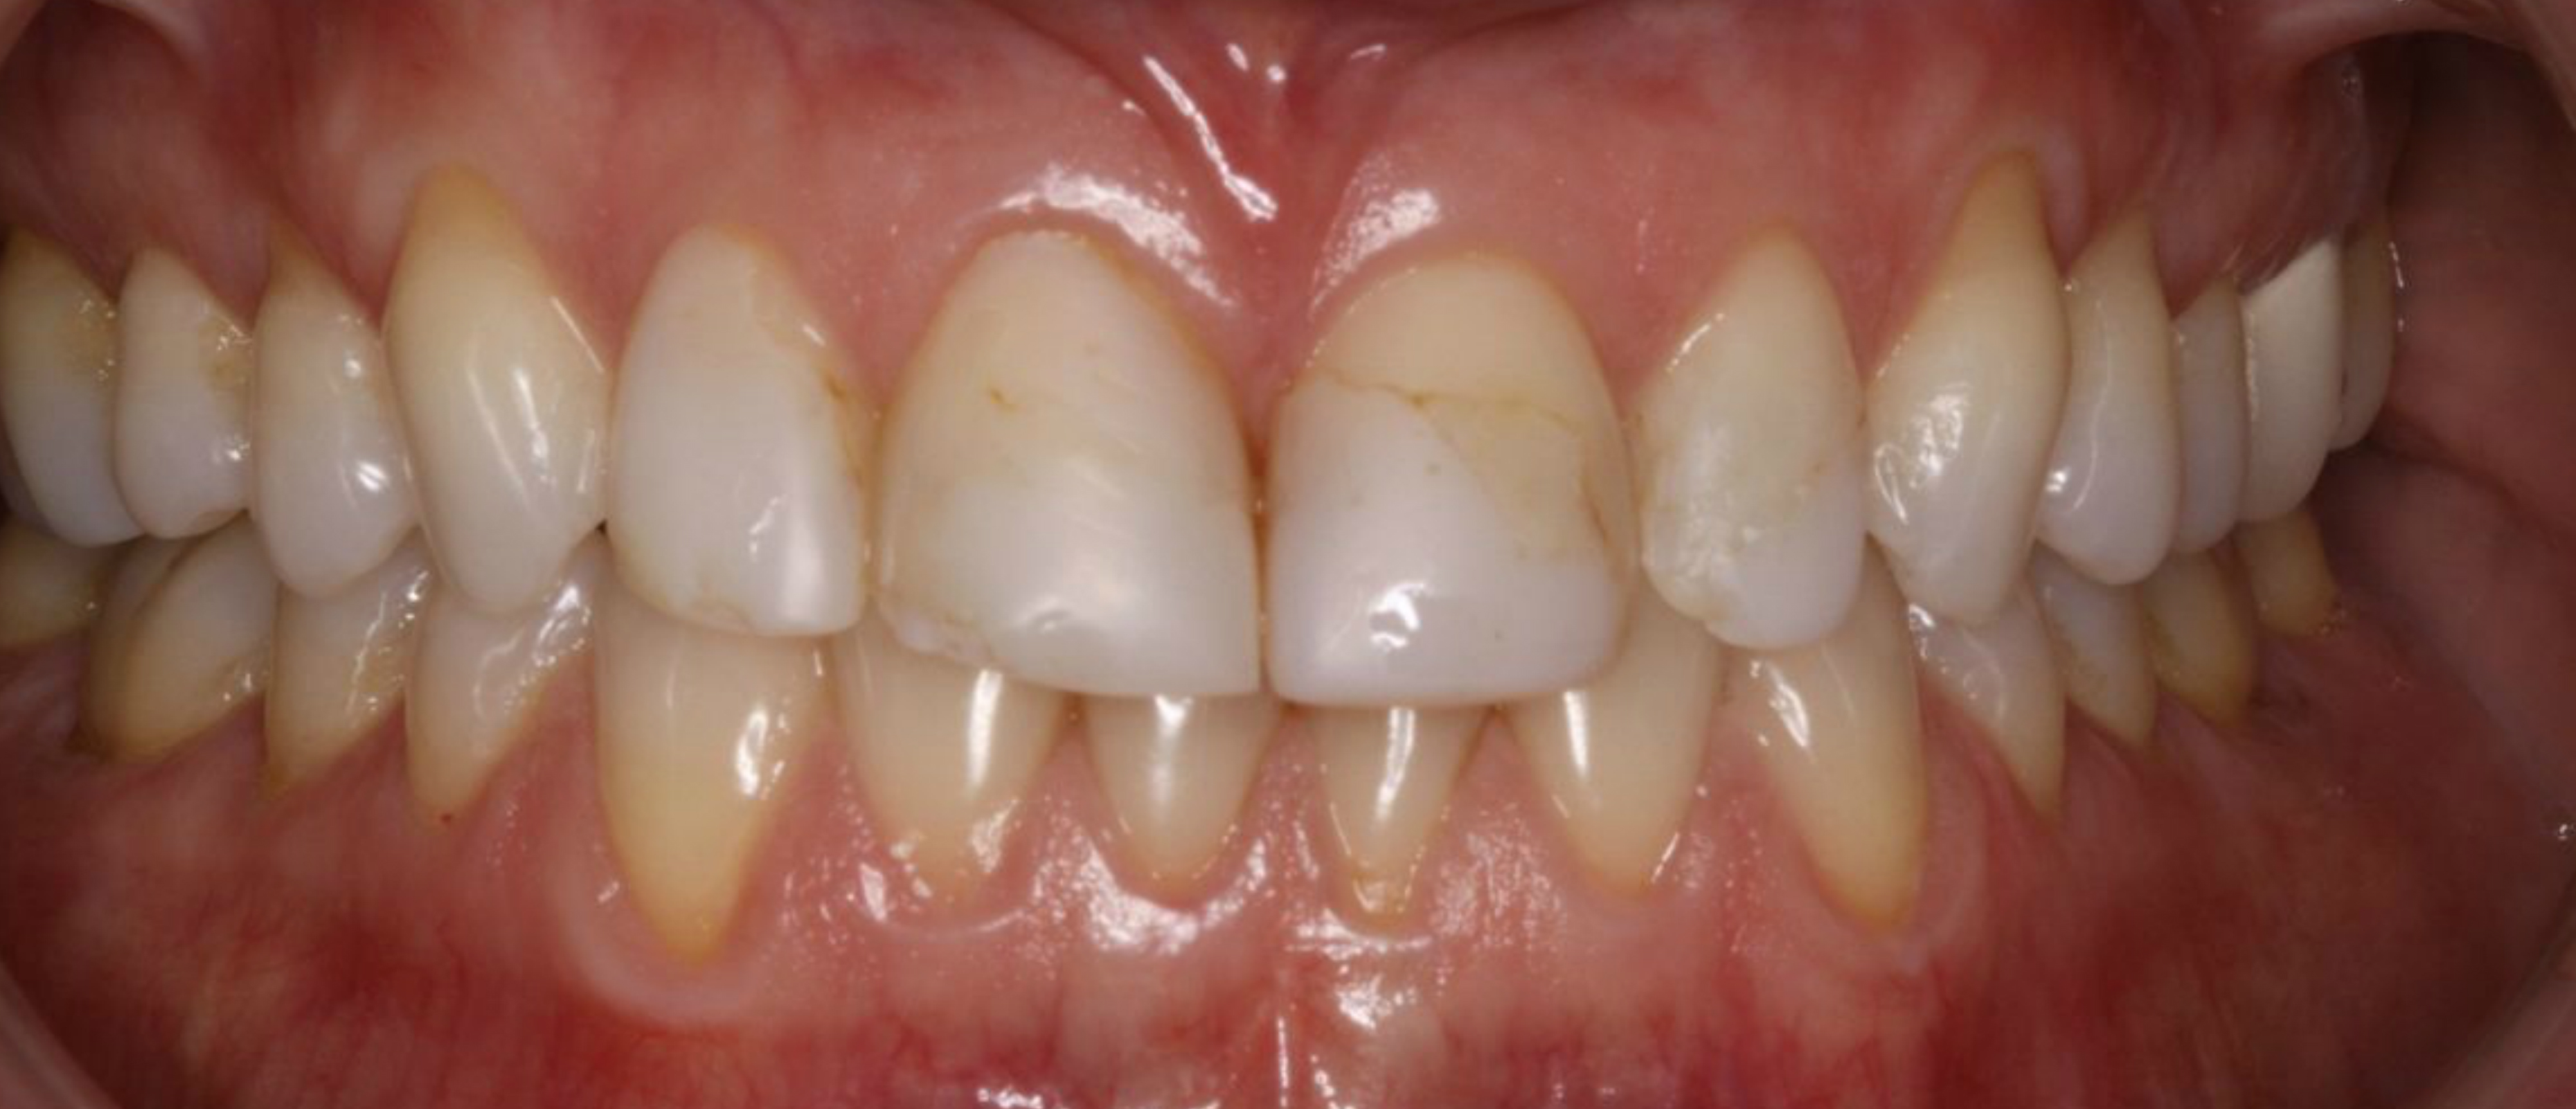UL1BC_healthy: (2055, 217, 2180, 590)
UL1M_healthy: (2246, 250, 2334, 532)
UL2BC_healthy: (2177, 284, 2244, 545)
UL2M_healthy: (2338, 240, 2390, 453)
ULCI_decay: (1265, 255, 1626, 703)
ULC_healthy: (1874, 171, 2068, 614)
ULLI_decay: (1626, 248, 1866, 651)
UR1BC_healthy: (250, 268, 412, 593)
UR1M_decay: (11, 253, 131, 577)
UR2BC_decay: (110, 255, 248, 532)
URCI_decay: (884, 235, 1260, 700)
URC_decay: (388, 186, 611, 606)
URLI_decay: (608, 230, 884, 629)
